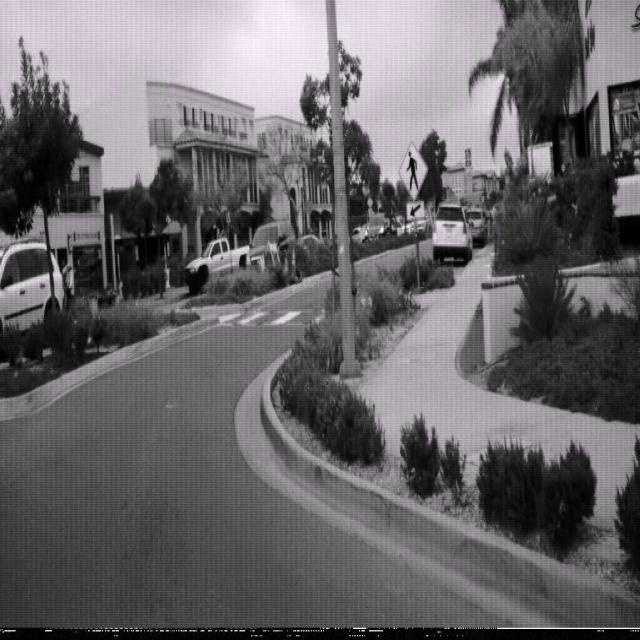pedestrianCrossing: (397, 138, 429, 204)
